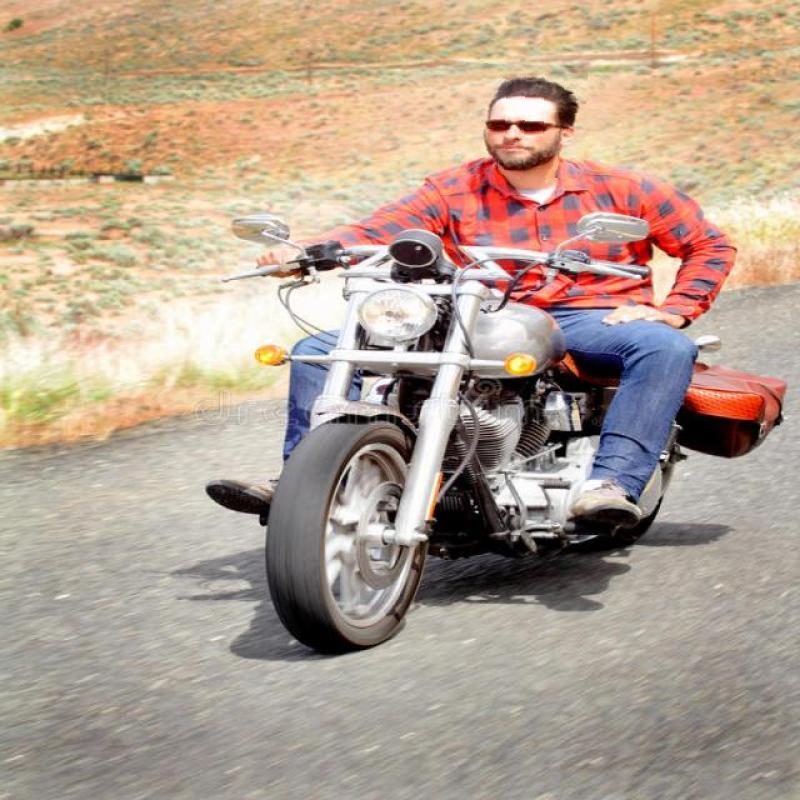nohelmet: (462, 64, 587, 178)
